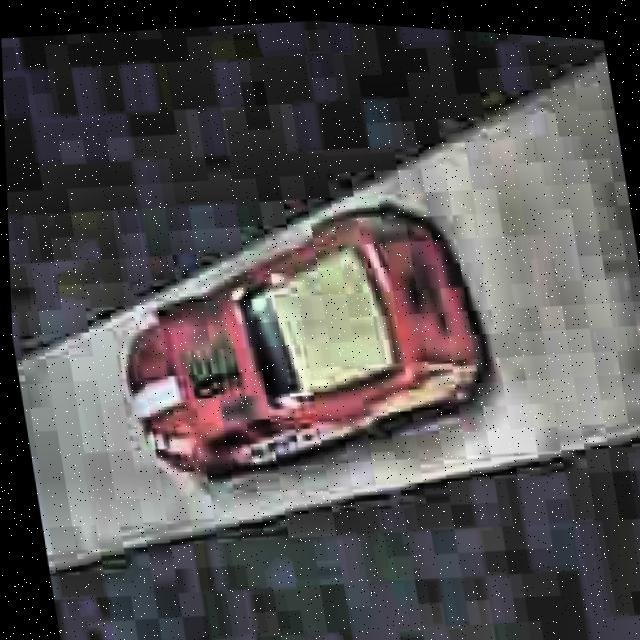car: (92, 169, 514, 512)
